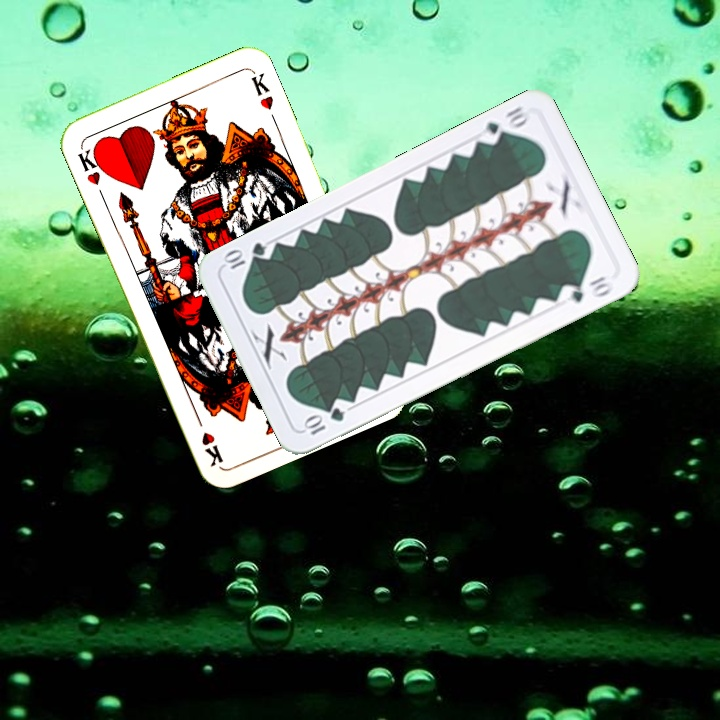G10: (478, 102, 531, 148), (299, 403, 347, 438)
HK: (74, 142, 108, 188)
